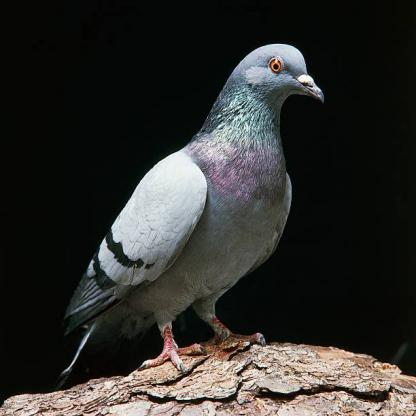Flying Rat: (53, 43, 324, 382)
